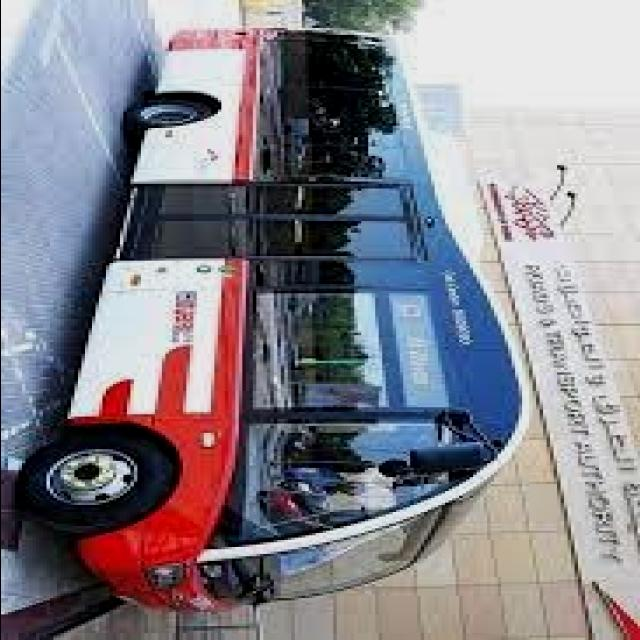bus: (19, 37, 549, 622)
